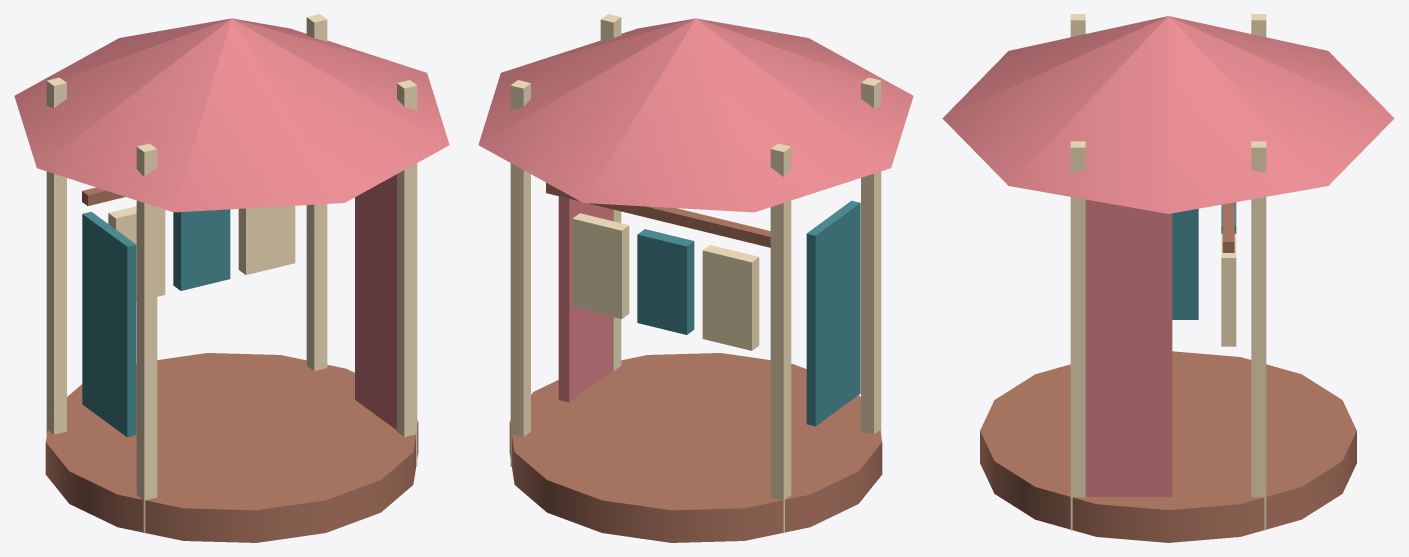
File: prop-square-wardrobe.glb
3 renders of one model, left to right at view 1: azimuth 30°, elevation 25°; view 2: azimuth 150°, elevation 25°; view 3: azimuth 270°, elevation 25°, orthographic.
Visible parts, largest first — view 1: wardrobe; view 2: wardrobe; view 3: wardrobe.
Boxes of the visible parts, x1,y1,x2,y2 form: wardrobe: [14, 14, 449, 542]; wardrobe: [478, 14, 913, 542]; wardrobe: [942, 14, 1394, 542].
Size of the model in its own units: 3 by 3.27 by 3.
